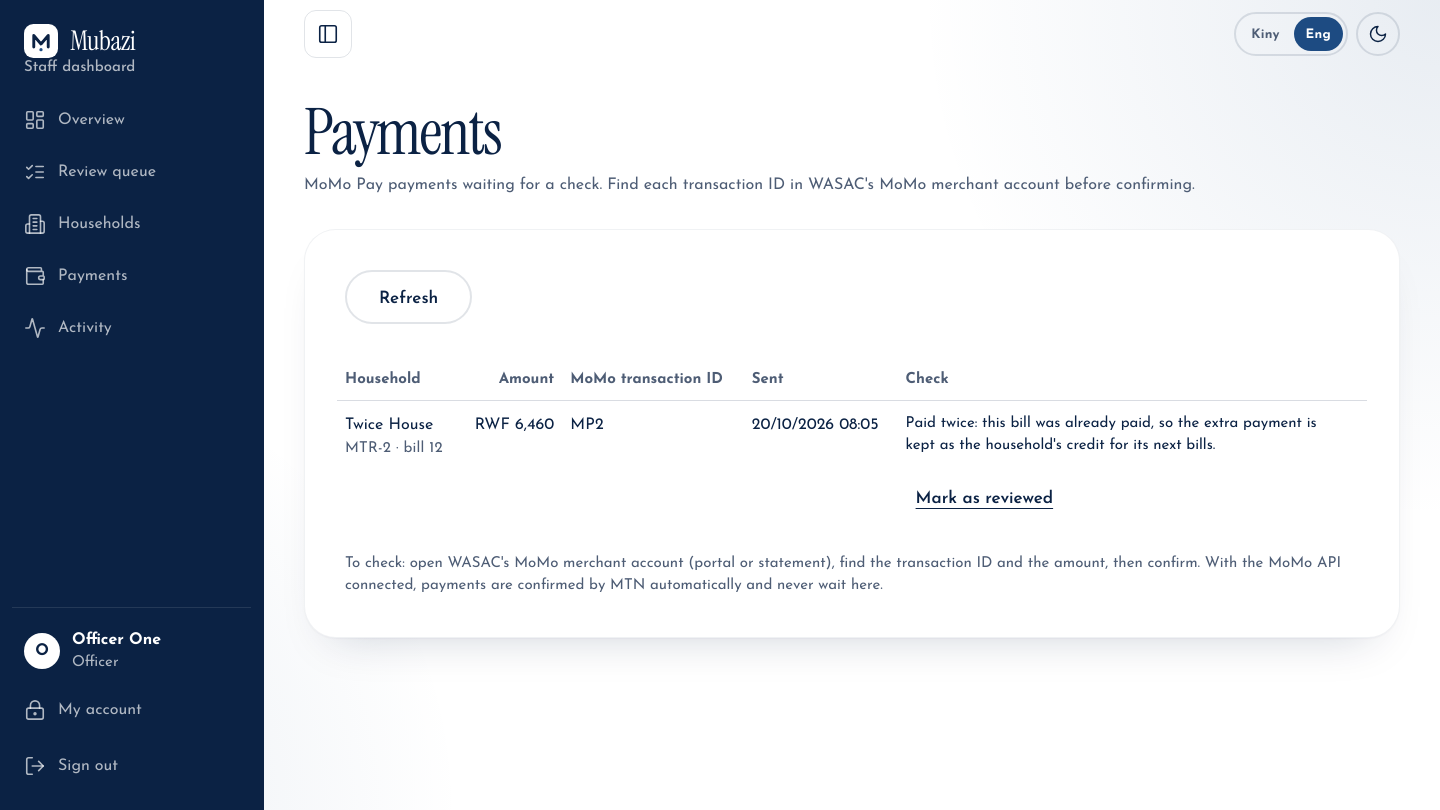
Scenario: Payments › when a double payment was looked at, should leave the list
The width and height of the screenshot is (1440, 810).
Click the button "Mark as reviewed": (984, 497) x1=906 y1=473 x2=1063 y2=521
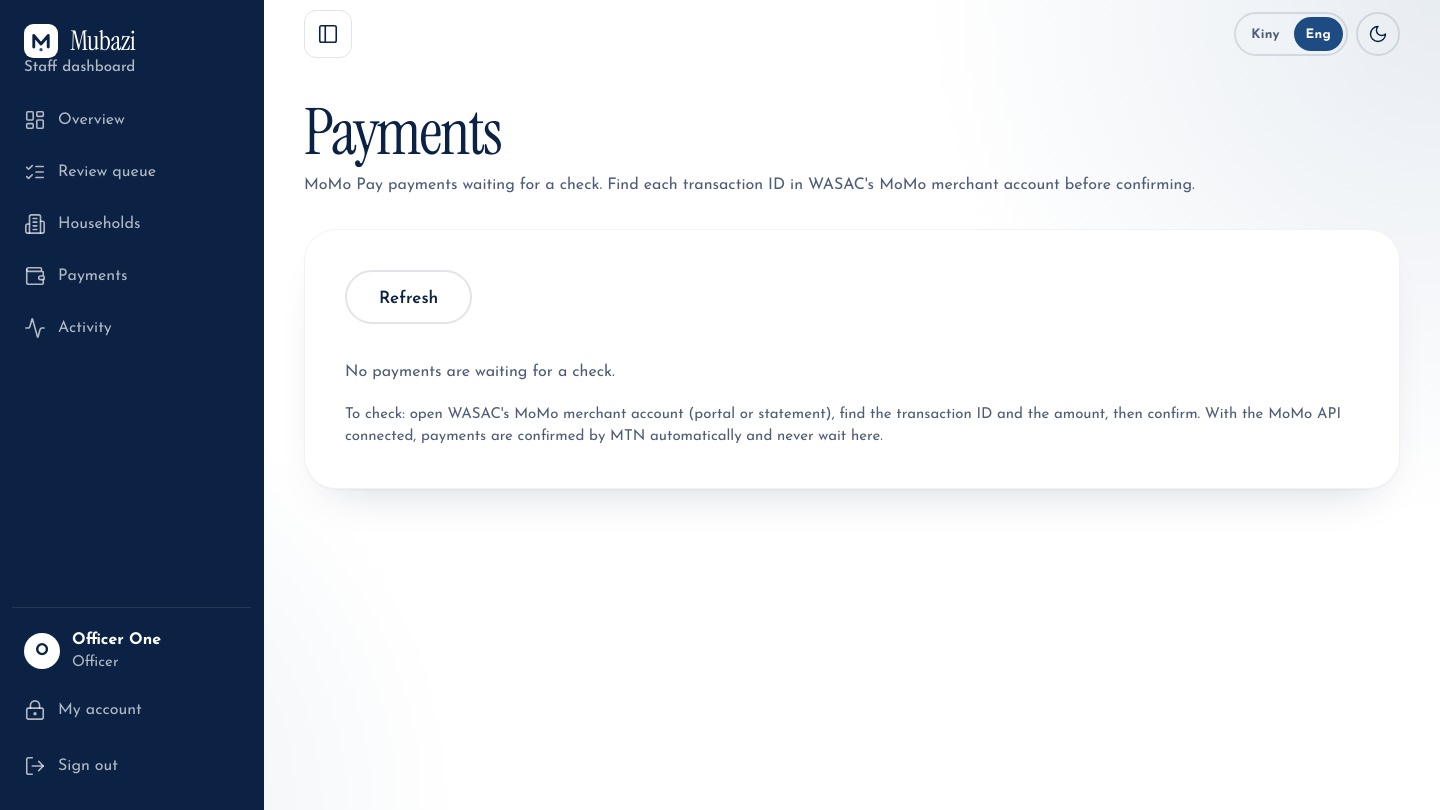
Check: the text "Twice House" is gone
